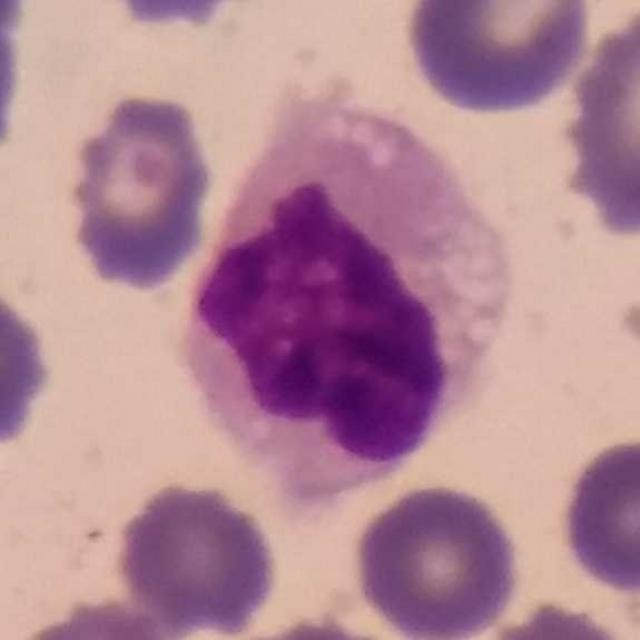Monocyte: (176, 96, 517, 479)
RBC: (59, 87, 220, 294), (348, 478, 525, 640), (109, 476, 284, 637), (398, 0, 599, 119), (555, 0, 640, 243), (554, 430, 640, 598), (0, 272, 59, 458), (6, 594, 189, 640), (479, 596, 635, 640), (209, 610, 421, 640), (83, 0, 264, 35)
